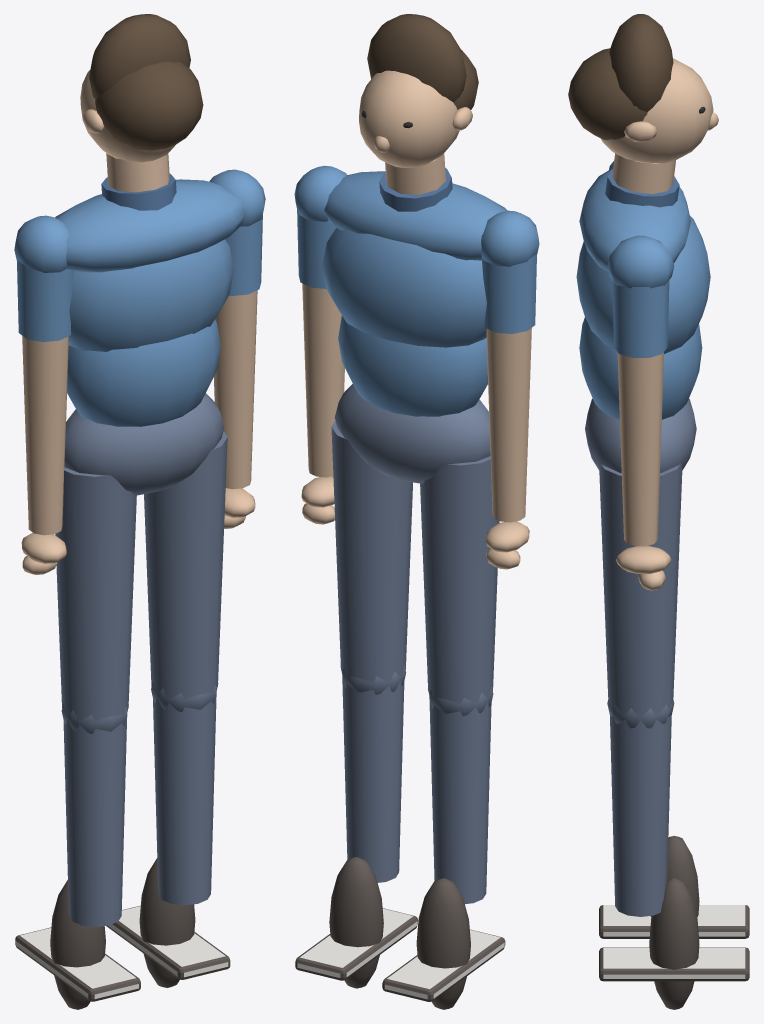
The model's file is pedestrian.glb.
The picture shows the model from 3 angles, left to right: view 1: azimuth 30°, elevation 25°; view 2: azimuth 150°, elevation 25°; view 3: azimuth 270°, elevation 25°; orthographic projection. The views are drawn at different scales.
Parts seen in each view (by area): view 1: Torso, ThighL, ThighR, Head, ShinR, ShinL, UpperArmL, FootL, FootR, ForearmL, UpperArmR, ForearmR; view 2: Torso, ThighL, ThighR, Head, ShinR, ShinL, UpperArmL, FootL, FootR, ForearmL, UpperArmR, ForearmR; view 3: Torso, Head, ThighR, ShinR, UpperArmR, FootR, ForearmR, FootL.
Boxes of the visible parts, left/top/right/bottom form: Torso: left=55, top=174, right=246, bottom=495; ThighL: left=55, top=467, right=136, bottom=721; ThighR: left=144, top=431, right=227, bottom=699; Head: left=80, top=14, right=203, bottom=192; ShinR: left=151, top=681, right=218, bottom=905; ShinL: left=61, top=703, right=128, bottom=927; UpperArmL: left=14, top=215, right=73, bottom=407; FootL: left=15, top=880, right=140, bottom=1009; FootR: left=106, top=858, right=230, bottom=987; ForearmL: left=21, top=397, right=66, bottom=574; UpperArmR: left=209, top=169, right=265, bottom=361; ForearmR: left=214, top=351, right=255, bottom=528; Torso: left=322, top=168, right=507, bottom=483; ThighL: left=420, top=456, right=499, bottom=703; ThighR: left=331, top=421, right=412, bottom=682; Head: left=359, top=14, right=478, bottom=194; ShinR: left=340, top=665, right=406, bottom=882; ShinL: left=428, top=686, right=493, bottom=903; UpperArmL: left=481, top=210, right=539, bottom=397; FootL: left=382, top=878, right=505, bottom=1009; FootR: left=295, top=857, right=417, bottom=988; ForearmL: left=485, top=388, right=529, bottom=569; UpperArmR: left=294, top=165, right=347, bottom=352; ForearmR: left=301, top=343, right=344, bottom=524; Torso: left=576, top=168, right=710, bottom=472; Head: left=568, top=14, right=718, bottom=193; ThighR: left=599, top=463, right=682, bottom=717; ShinR: left=607, top=699, right=674, bottom=916; UpperArmR: left=607, top=235, right=674, bottom=421; FootR: left=599, top=878, right=749, bottom=1009; ForearmR: left=616, top=413, right=671, bottom=590; FootL: left=599, top=835, right=749, bottom=938.
Bounding box in the file's own units: 0.4846 × 1.91 × 0.325.
